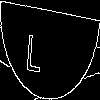L: (25, 24, 44, 73)
